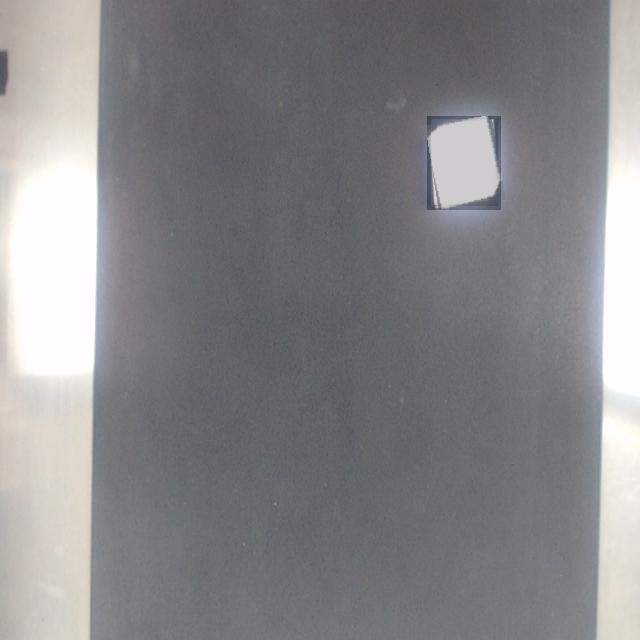Blanco: (428, 116, 501, 210)
